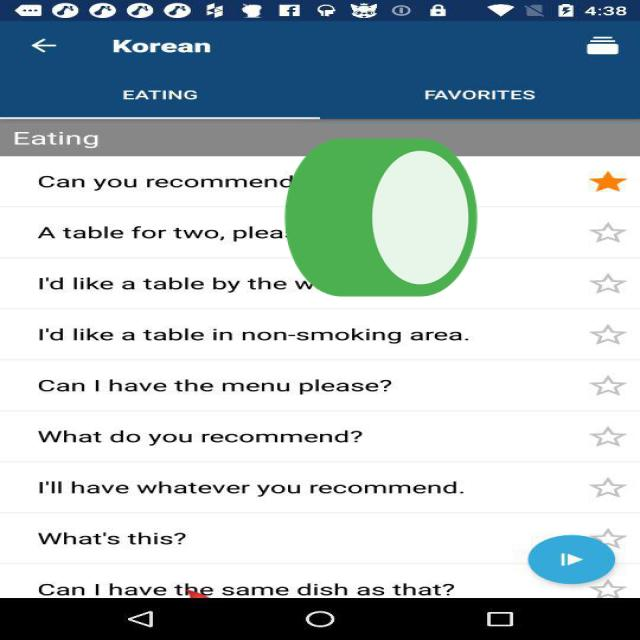social proof: (276, 78, 486, 369)
